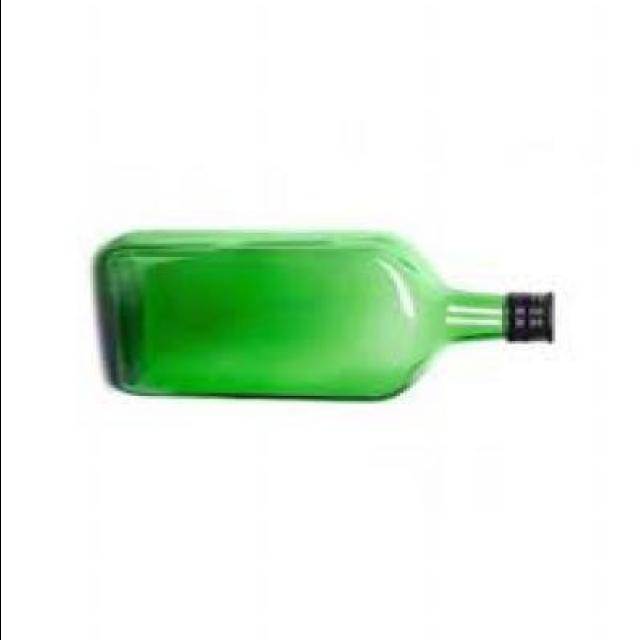kaca: (98, 228, 510, 400)
